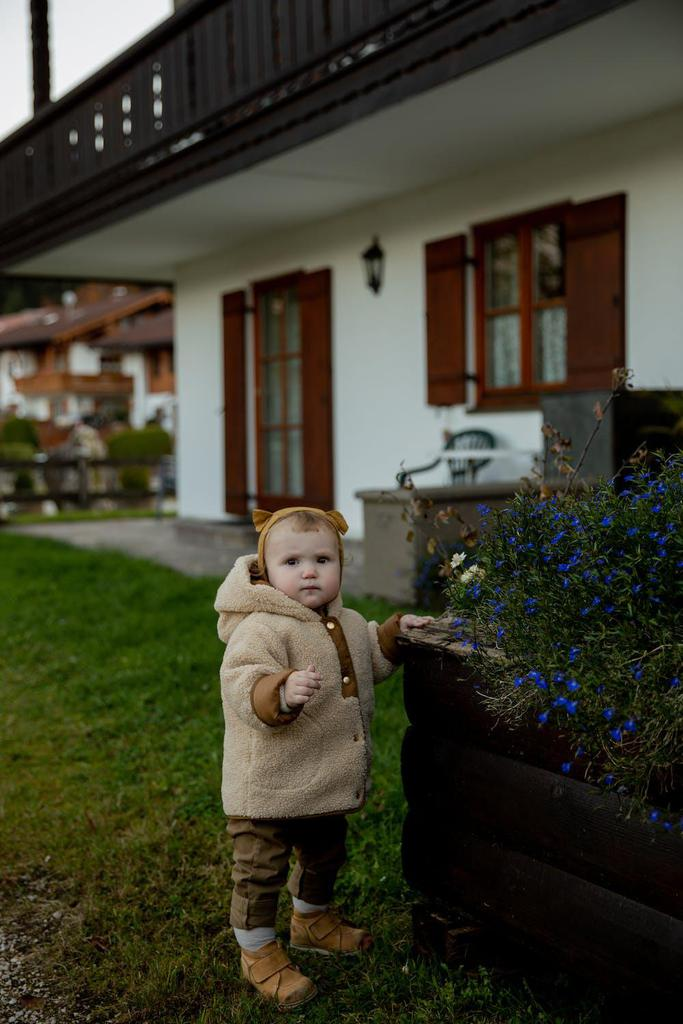child: (174, 477, 435, 984)
